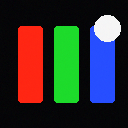2 circle: (94, 15, 120, 41)
